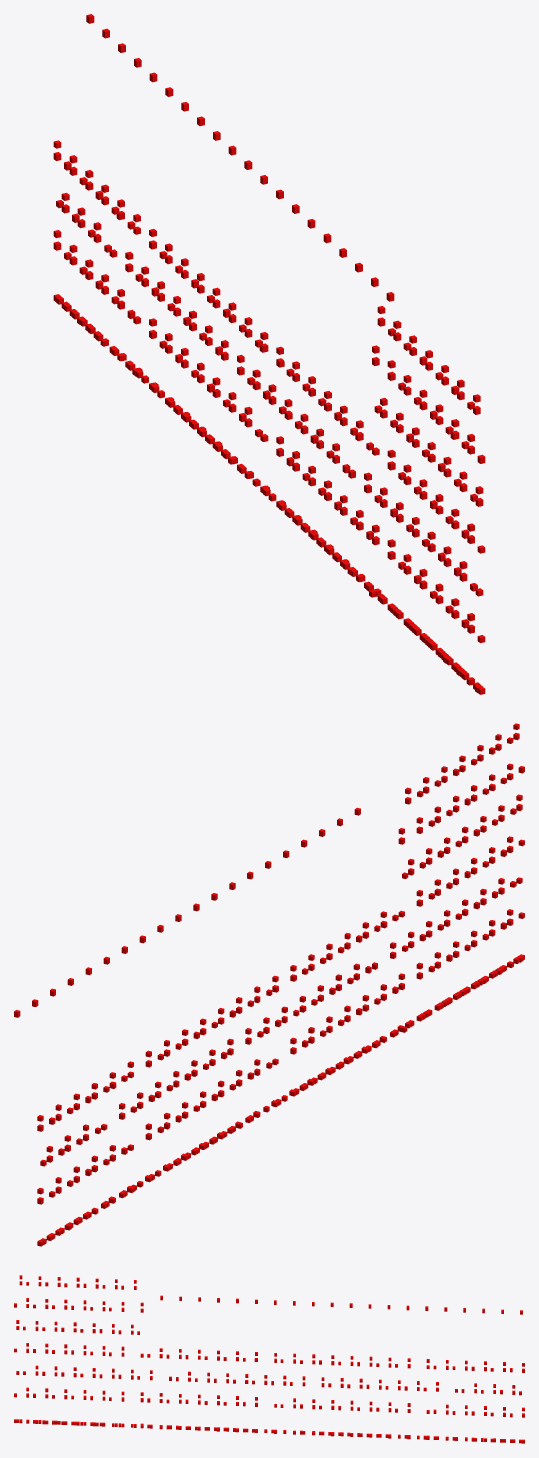
File: Cubes_Triple.obj
3 views of the same model, one above another, from view 1: azimuth 30°, elevation 25°; view 2: azimuth 150°, elevation 25°; view 3: azimuth 270°, elevation 25° (orthographic). The views are drawn at different scales.
Bounding box in the file's own units: 9.79 × 22.83 × 72.12.
